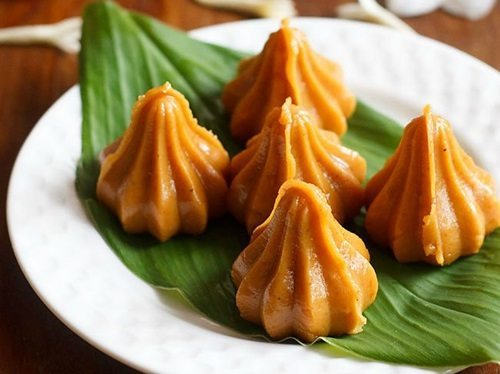modak: (357, 99, 497, 273), (237, 182, 377, 340), (107, 90, 240, 243), (237, 92, 383, 229), (222, 38, 354, 129)
